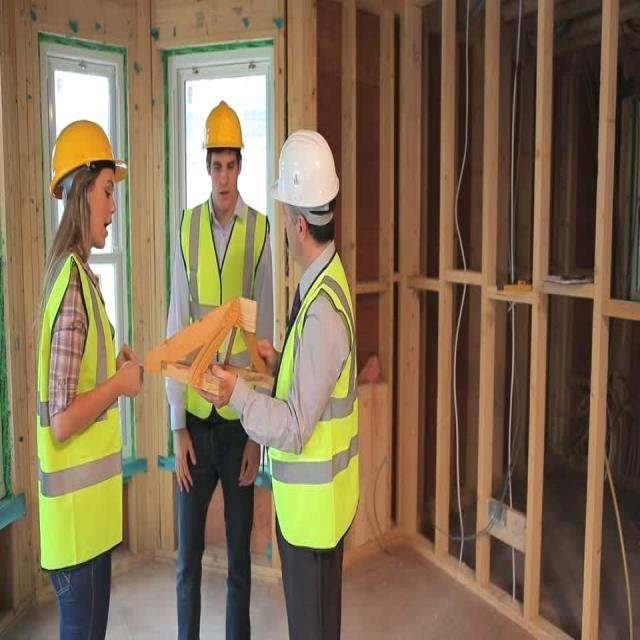face_nomask: (81, 168, 117, 246), (204, 148, 237, 211)
hand_noglove: (200, 360, 240, 416), (112, 342, 144, 403), (237, 434, 265, 501), (170, 434, 199, 492), (256, 334, 280, 377)
head_helmet: (43, 118, 127, 191), (266, 129, 341, 205), (202, 100, 247, 152)
person: (166, 97, 267, 640), (30, 125, 128, 640), (270, 130, 359, 640)
vest: (37, 260, 123, 572), (269, 254, 356, 552), (175, 197, 262, 426)
